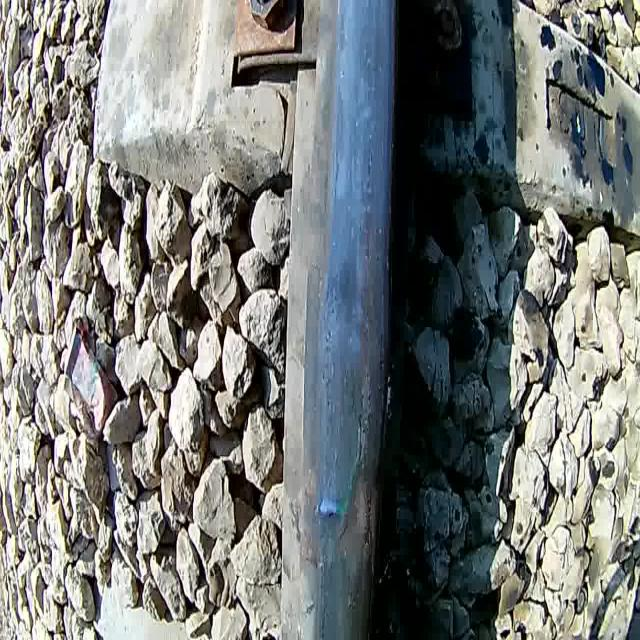Squats: (325, 407, 389, 615), (308, 334, 369, 504), (304, 238, 378, 328)
